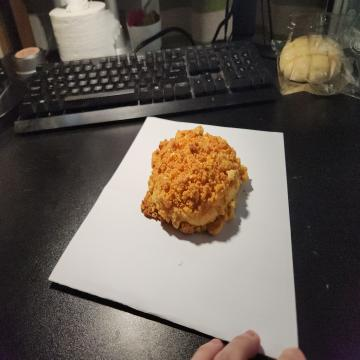soboru_bread: (140, 126, 250, 240)
